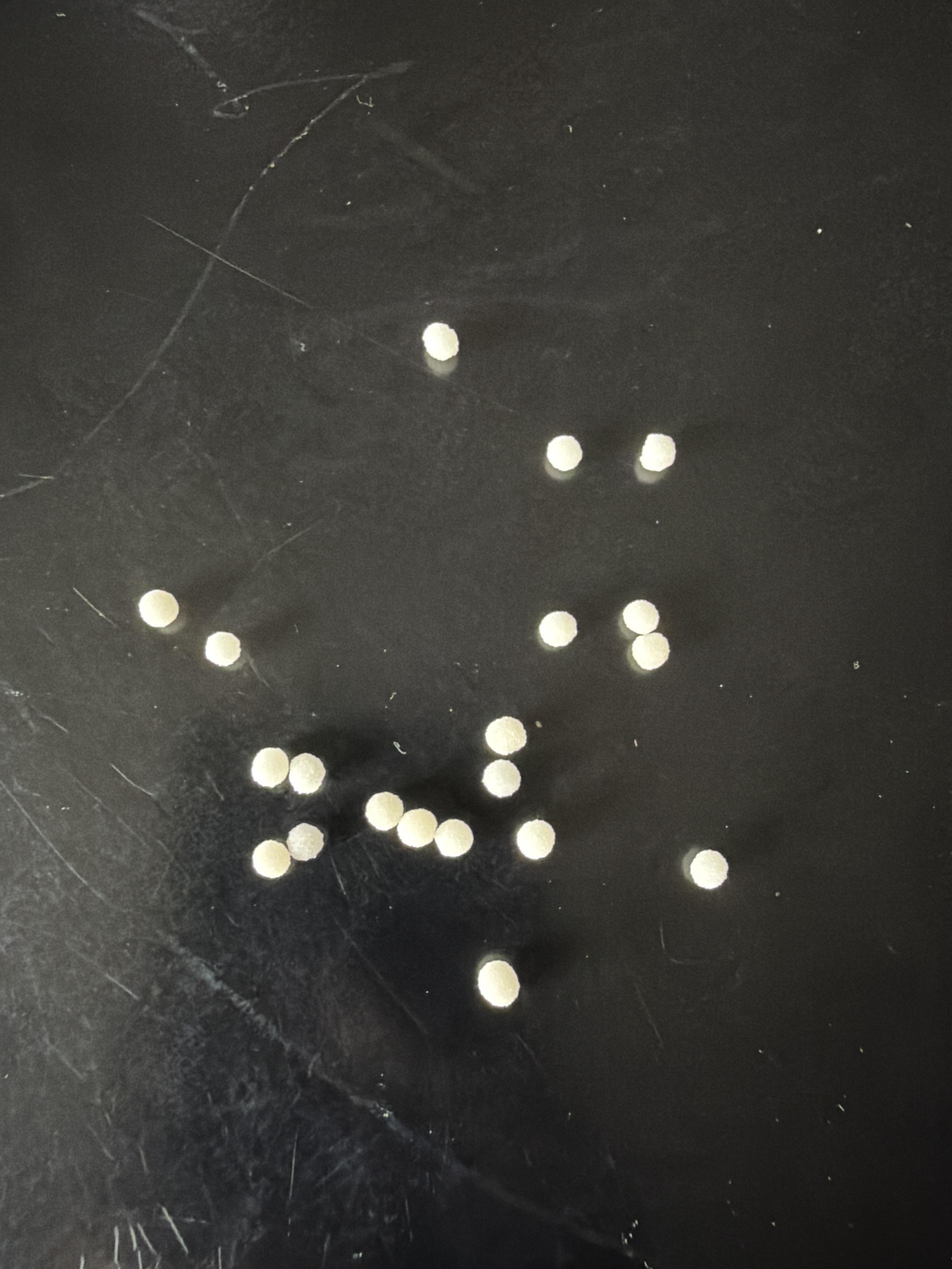pill: (477, 959, 519, 1008), (485, 716, 527, 756), (138, 589, 179, 629), (397, 808, 437, 849), (516, 819, 555, 860), (288, 753, 326, 795), (252, 839, 291, 879), (689, 849, 728, 889), (251, 747, 289, 788), (434, 818, 473, 857), (482, 759, 521, 798), (365, 792, 403, 831), (631, 632, 669, 671), (287, 822, 324, 861), (538, 611, 577, 648), (639, 433, 676, 472), (422, 323, 459, 361), (546, 435, 582, 472), (205, 631, 241, 667), (622, 601, 660, 635)
